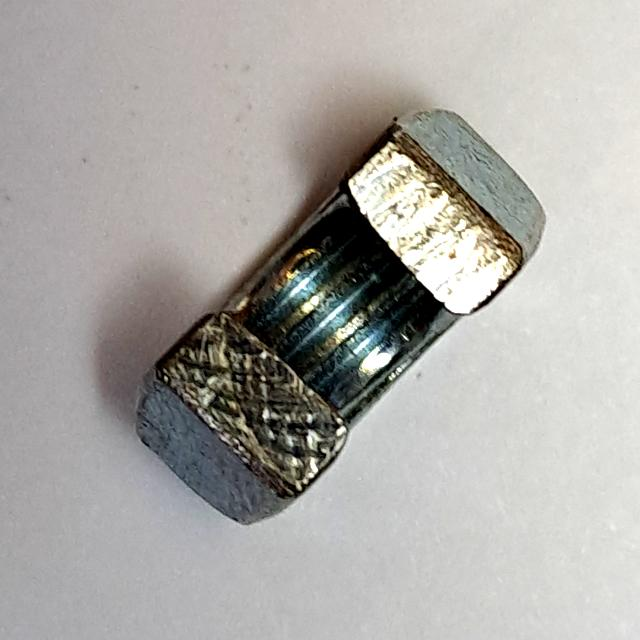Side-Fracture: (123, 91, 558, 539)
